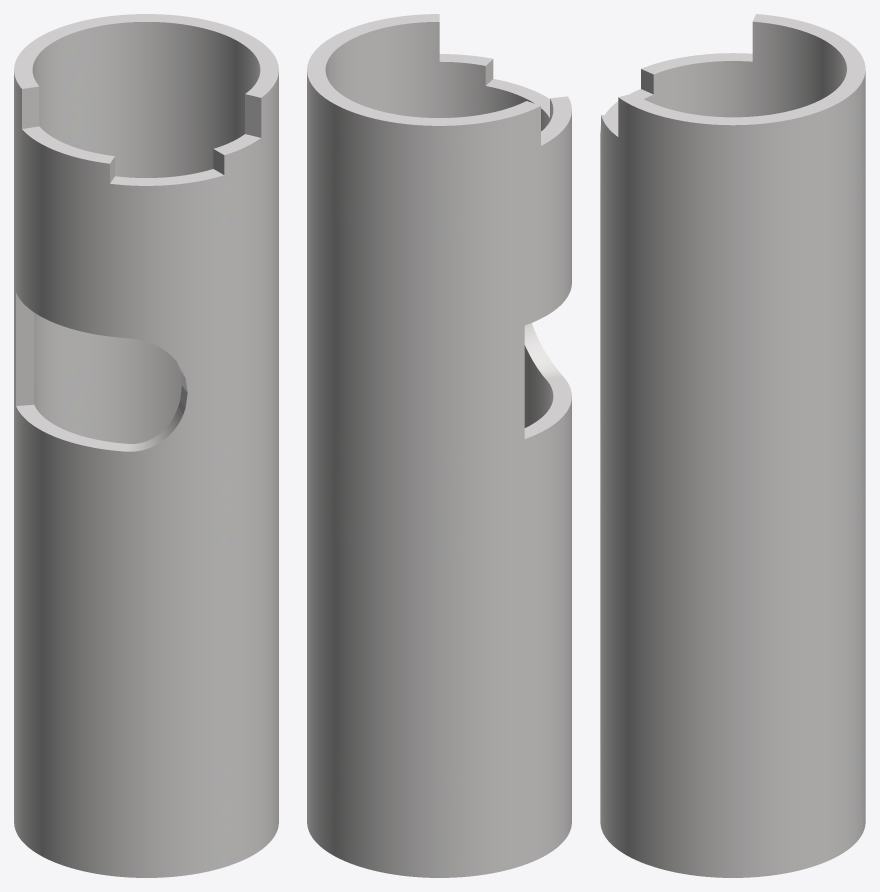
The model's file is 04_jezdec_bila.glb.
3 renders of one model, left to right at view 1: azimuth 30°, elevation 25°; view 2: azimuth 150°, elevation 25°; view 3: azimuth 270°, elevation 25°, orthographic.
Visible parts, largest first — view 1: 04_jezdec_bila; view 2: 04_jezdec_bila; view 3: 04_jezdec_bila.
Part boxes in pixels (x1=…): 04_jezdec_bila: x1=14, y1=14, x2=278, y2=877; 04_jezdec_bila: x1=307, y1=14, x2=571, y2=877; 04_jezdec_bila: x1=600, y1=14, x2=865, y2=877.
Size of the model in its own units: 0.03 by 0.094 by 0.03.
1 material, 1 textured.
